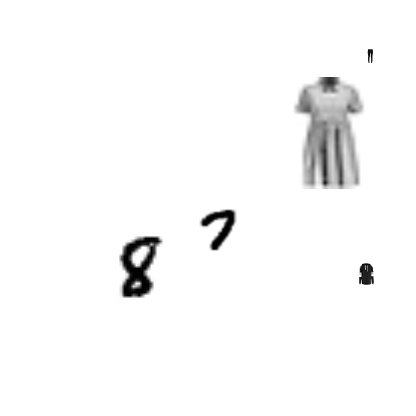7: (192, 198, 248, 254)
8: (96, 225, 180, 309)
Dress: (271, 77, 383, 189)
Pullover: (355, 263, 377, 285)
Trouser: (363, 49, 377, 63)
